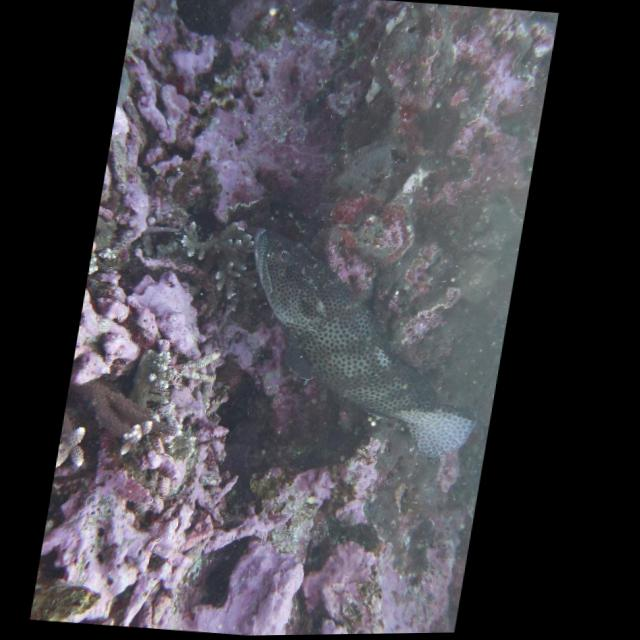Groupers: (213, 219, 510, 466)
